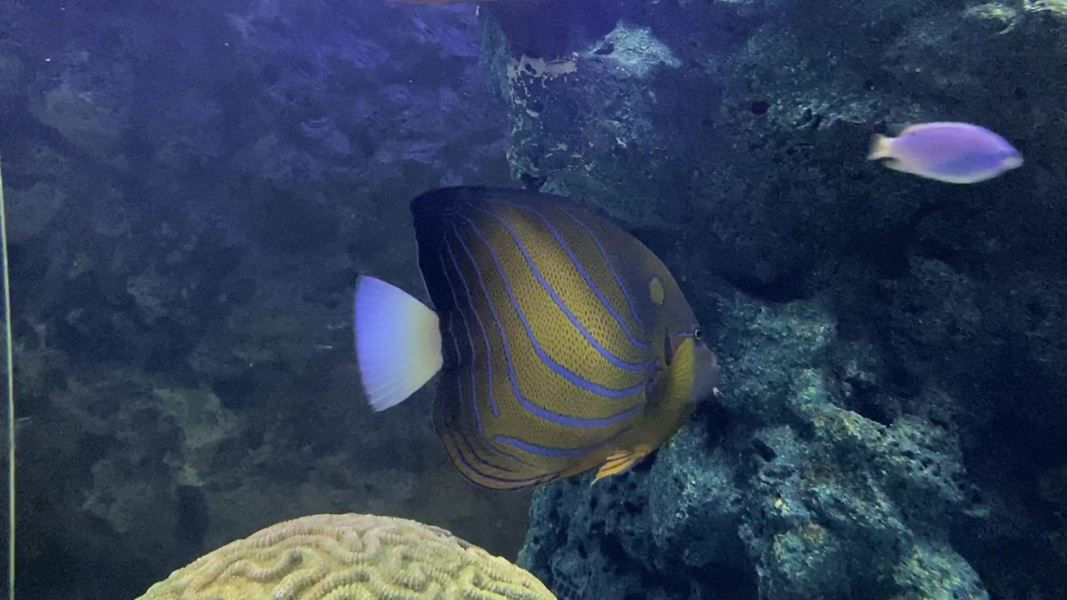Blue ring angelfish: (342, 183, 732, 507)
